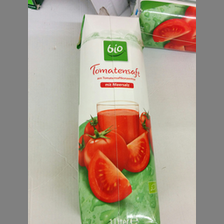juice: (77, 13, 160, 224)
